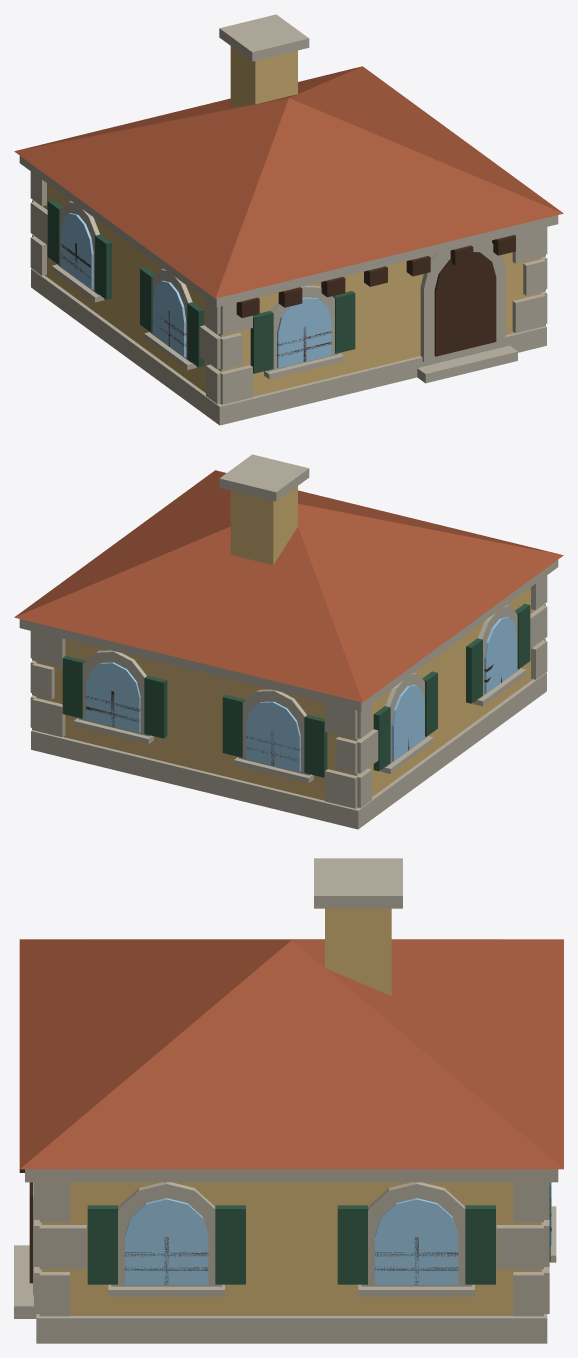
File: house-1x1-1f-tuscan-a.glb
3 views of the same model, one above another, from view 1: azimuth 30°, elevation 25°; view 2: azimuth 150°, elevation 25°; view 3: azimuth 270°, elevation 25° (orthographic). The views are drawn at different scales.
Parts seen in each view (by area): view 1: house-1x1-1f-tuscan-a; view 2: house-1x1-1f-tuscan-a; view 3: house-1x1-1f-tuscan-a.
Boxes of the visible parts, x1,y1,x2,y2 form: house-1x1-1f-tuscan-a: (14, 14, 563, 425); house-1x1-1f-tuscan-a: (14, 454, 563, 829); house-1x1-1f-tuscan-a: (14, 858, 563, 1343).
Size of the model in its own units: 0.98 by 0.712 by 0.99.
Materials: 1 (1 with a texture image).
